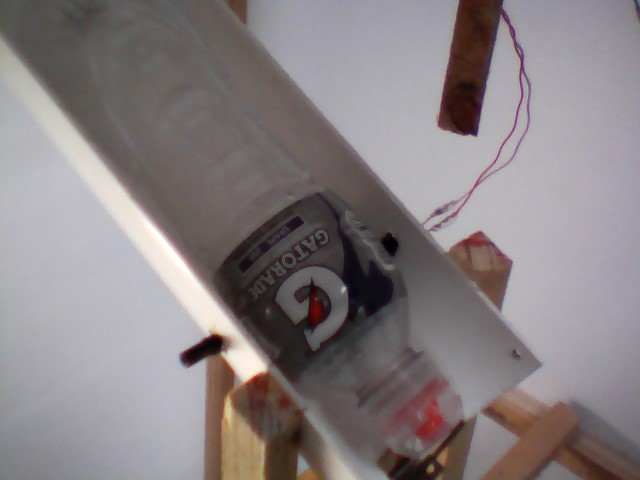plastico: (27, 1, 479, 464)
